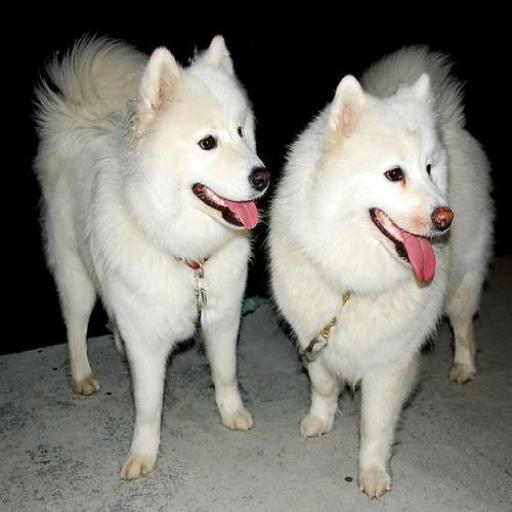dog_face: (332, 77, 456, 291), (144, 38, 264, 228)
